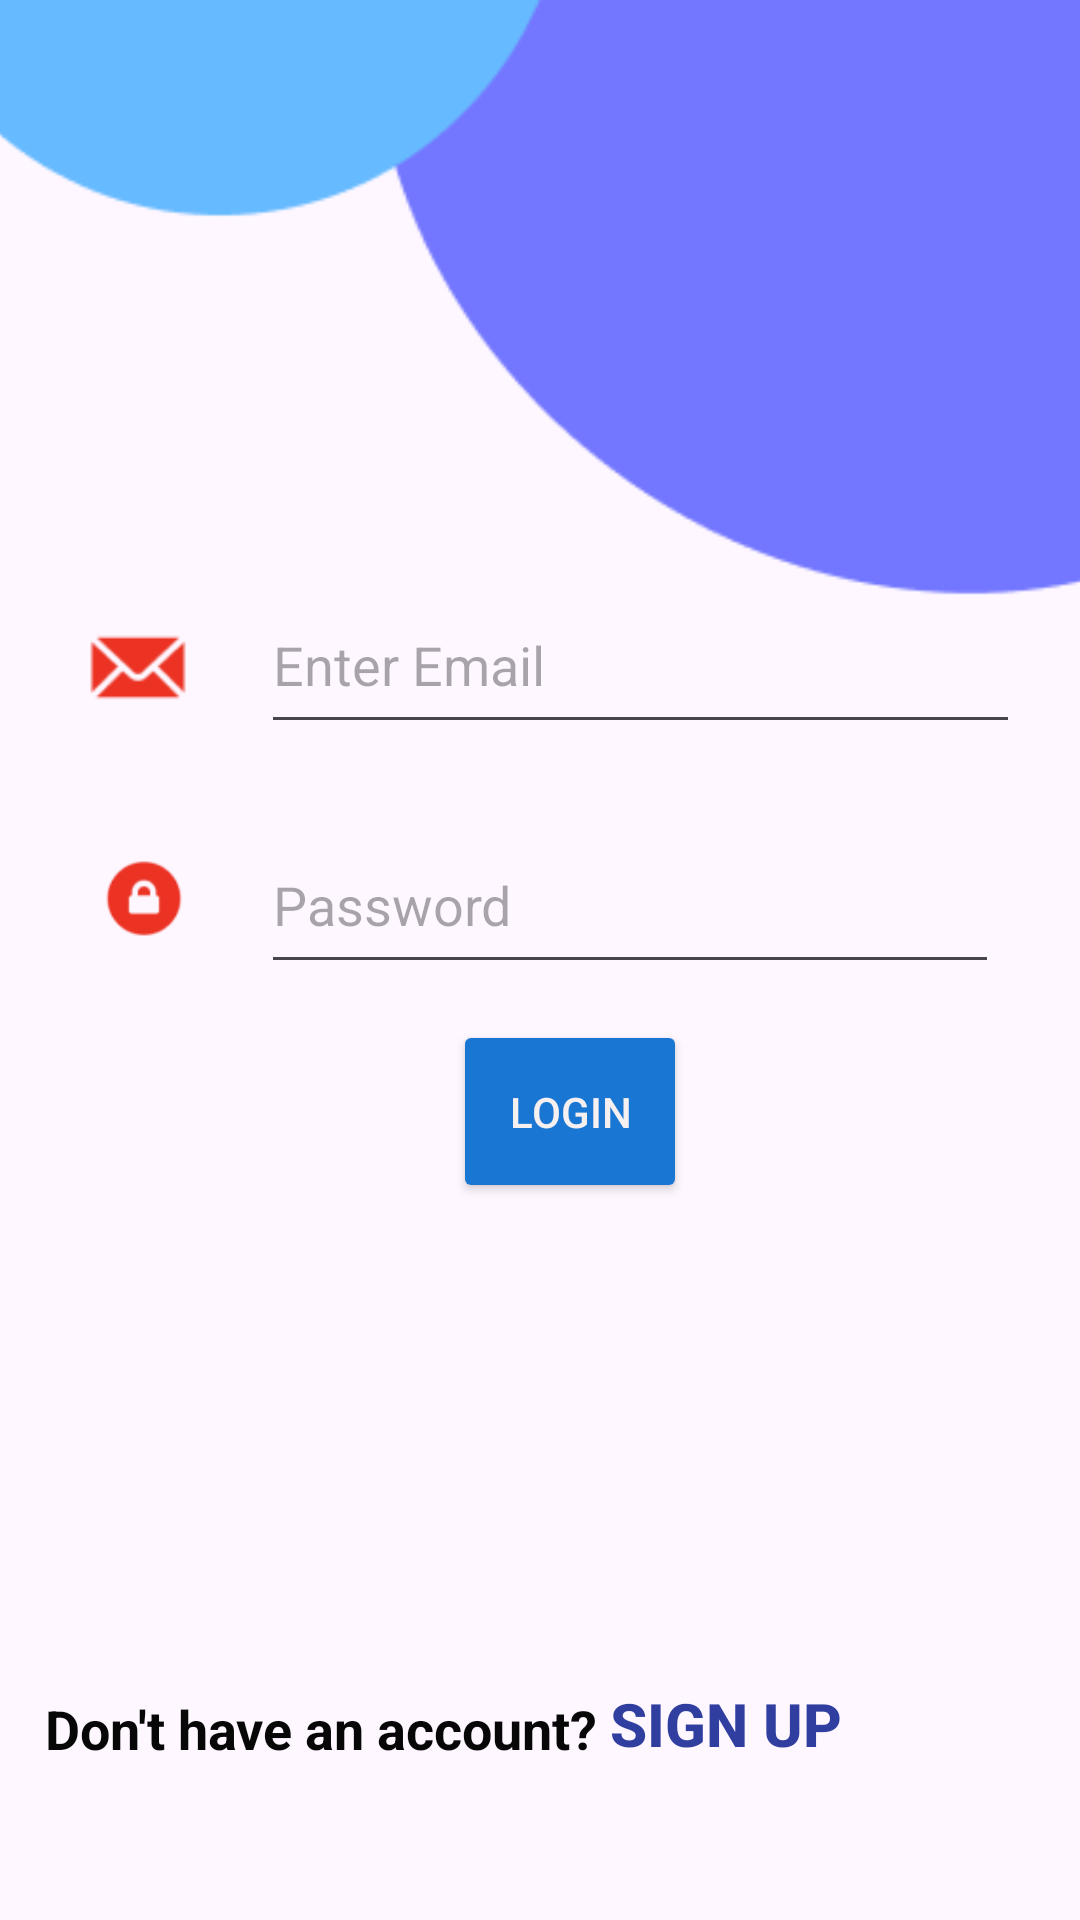

Point at icon controls on the screen. Image size 1080 × 1920, points as point (x, y).
secure: point (144, 898)
